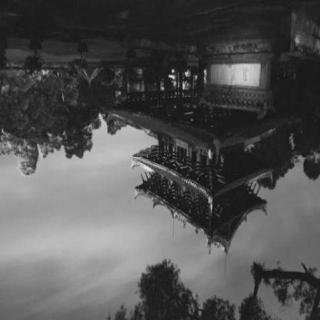other: (9, 143, 45, 175), (131, 159, 153, 177)
